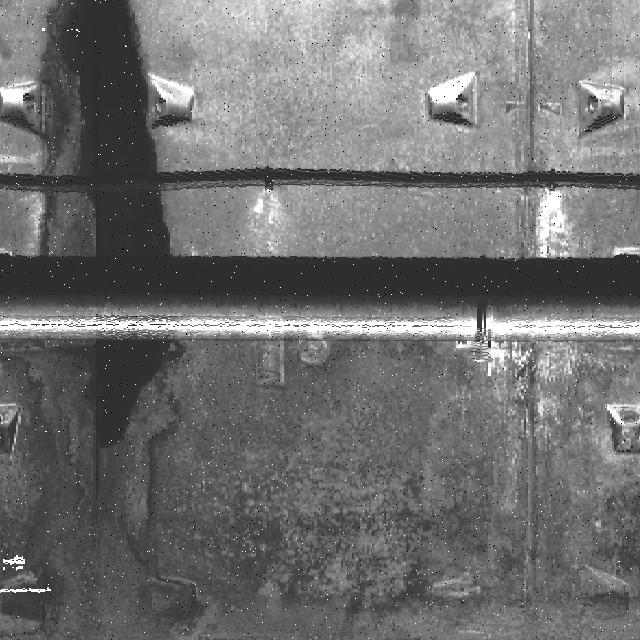leakage: (0, 7, 186, 637)
